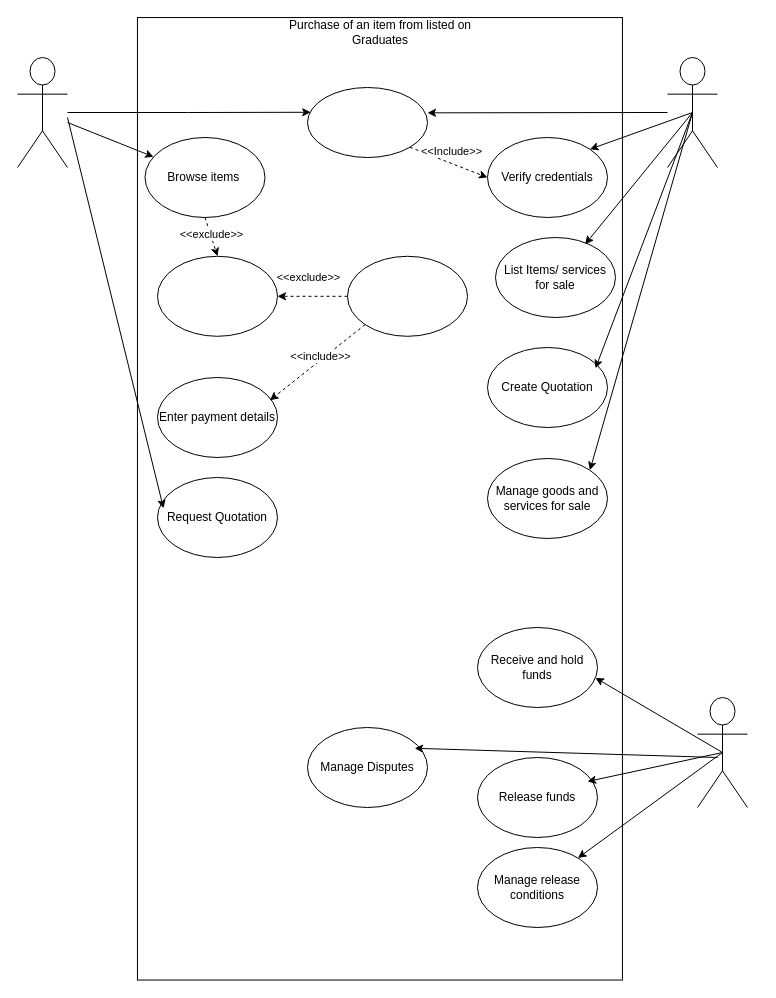
Some shapes in this 776 by 998 pixel diagram are drawn without their labels. Here are the shapes that lost their labels. From the top down, the box of each, then its label:
(16, 56, 68, 168): Buyer
(306, 86, 428, 158): Login
(666, 56, 718, 168): Seller
(156, 255, 278, 336): Add items to cart
(346, 255, 468, 336): Checkout
(696, 696, 748, 808): Escrow Agent
